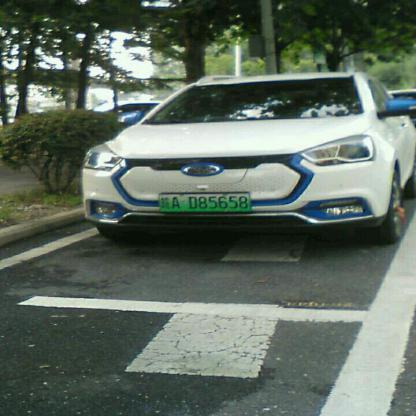lp: (158, 192, 251, 212)
